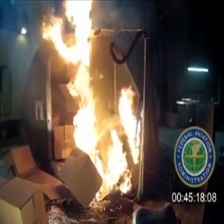fire: (37, 2, 141, 201)
